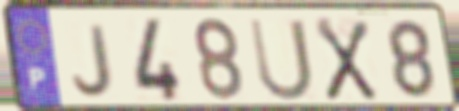4: (130, 15, 184, 106)
8: (192, 16, 245, 104), (384, 17, 437, 100)
J: (70, 22, 115, 100)
U: (246, 16, 316, 103)
X: (311, 16, 379, 103)
